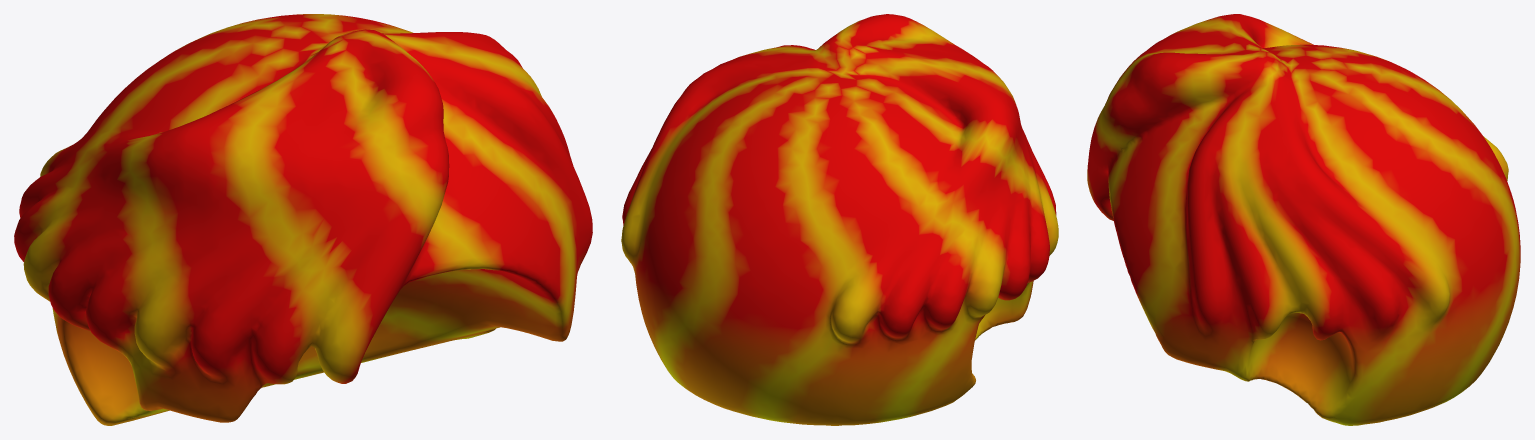
The model's file is side-part.glb.
The picture shows the model from 3 angles, left to right: view 1: azimuth 30°, elevation 25°; view 2: azimuth 150°, elevation 25°; view 3: azimuth 270°, elevation 25°; orthographic projection. The views are drawn at different scales.
Parts seen in each view (by area): view 1: part; view 2: part; view 3: part.
Boxes of the visible parts, bbox=[...] form: part: bbox=[14, 14, 592, 425]; part: bbox=[621, 14, 1058, 425]; part: bbox=[1087, 14, 1520, 425].
Size of the model in its own units: 2.29 by 1.7 by 2.15.
